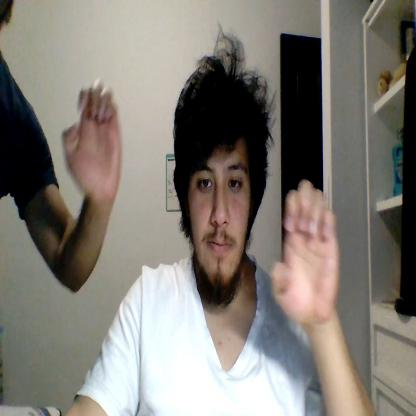E: (270, 180, 340, 324), (60, 78, 123, 202)
